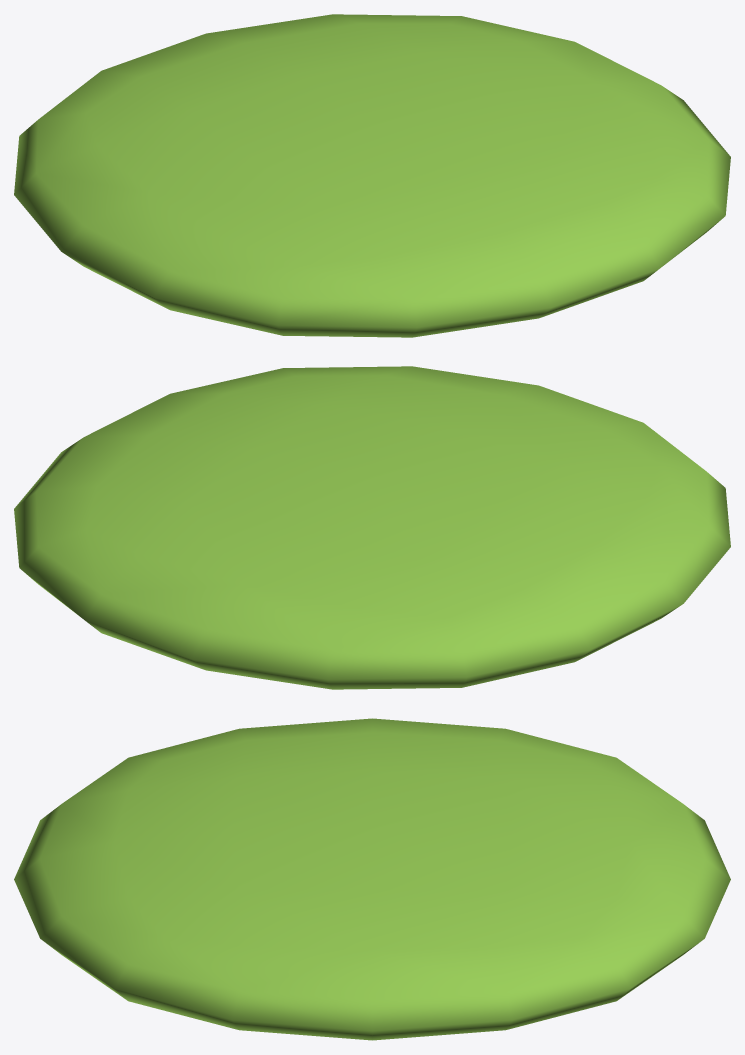
The model's file is GrassTuft.fbx.
3 views of the same model, one above another, from view 1: azimuth 30°, elevation 25°; view 2: azimuth 150°, elevation 25°; view 3: azimuth 270°, elevation 25° (orthographic).
Parts seen in each view (by area): view 1: GrassTuft; view 2: GrassTuft; view 3: GrassTuft.
Part boxes in pixels (box(x1,y1,x2,y2)): GrassTuft: box(14, 14, 730, 337); GrassTuft: box(14, 366, 730, 689); GrassTuft: box(14, 718, 730, 1040).
Size of the model in its own units: 5.8 by 0.9402 by 5.8.
